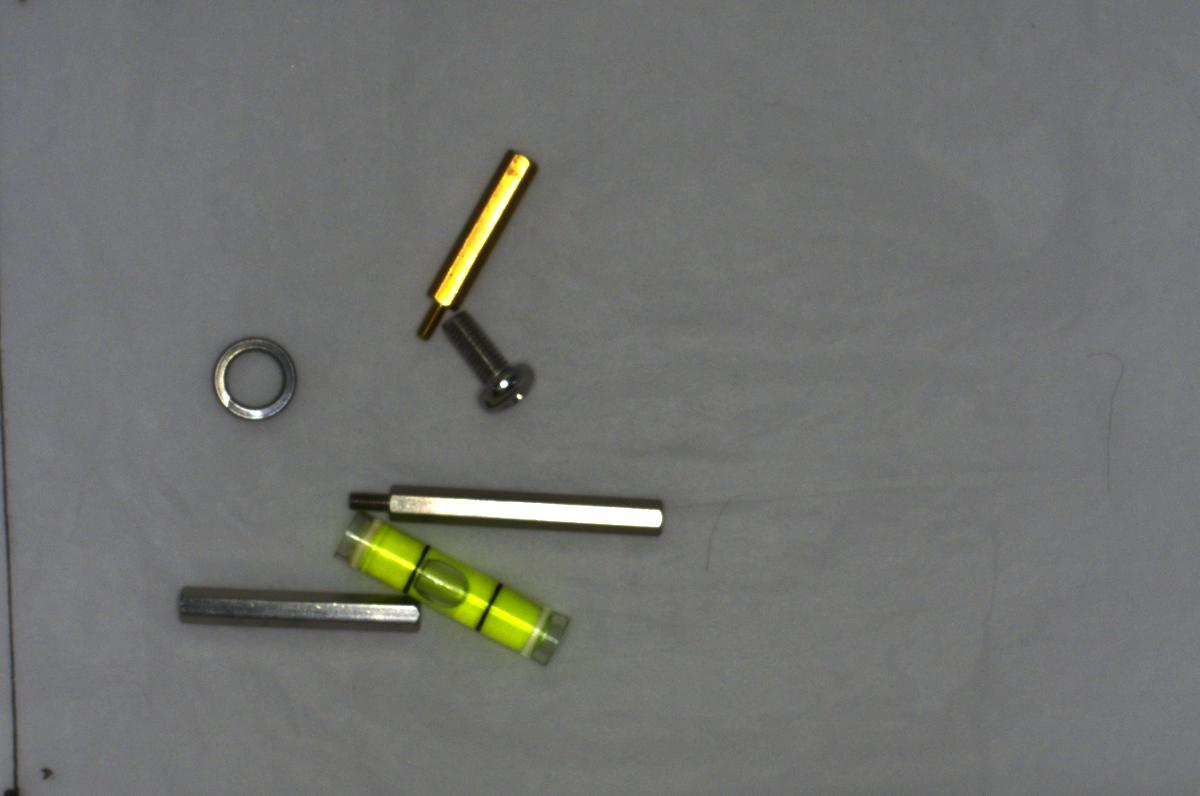Double hexagonal column: (164, 575, 432, 642)
Hexagon pillar: (398, 143, 550, 341)
Hexagonal steel column: (335, 469, 673, 540)
Horizontal bubble: (320, 514, 578, 665)
Round head screw: (433, 309, 544, 421)
Spring washer: (205, 329, 305, 427)
